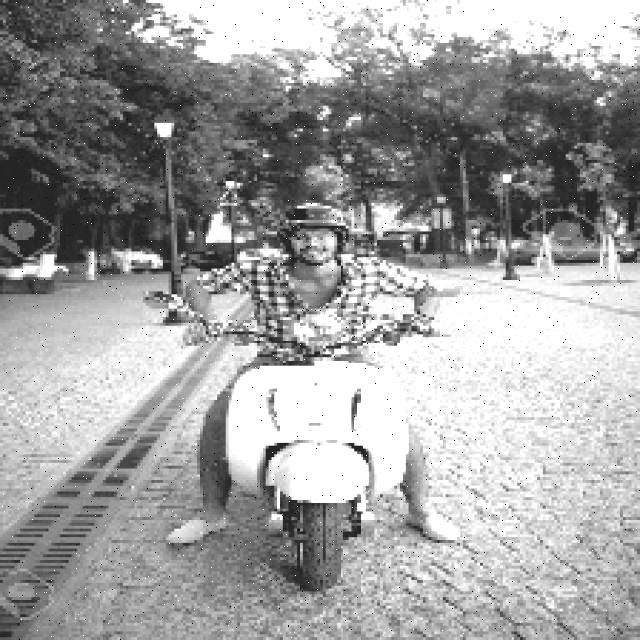Bike: (211, 313, 418, 593)
